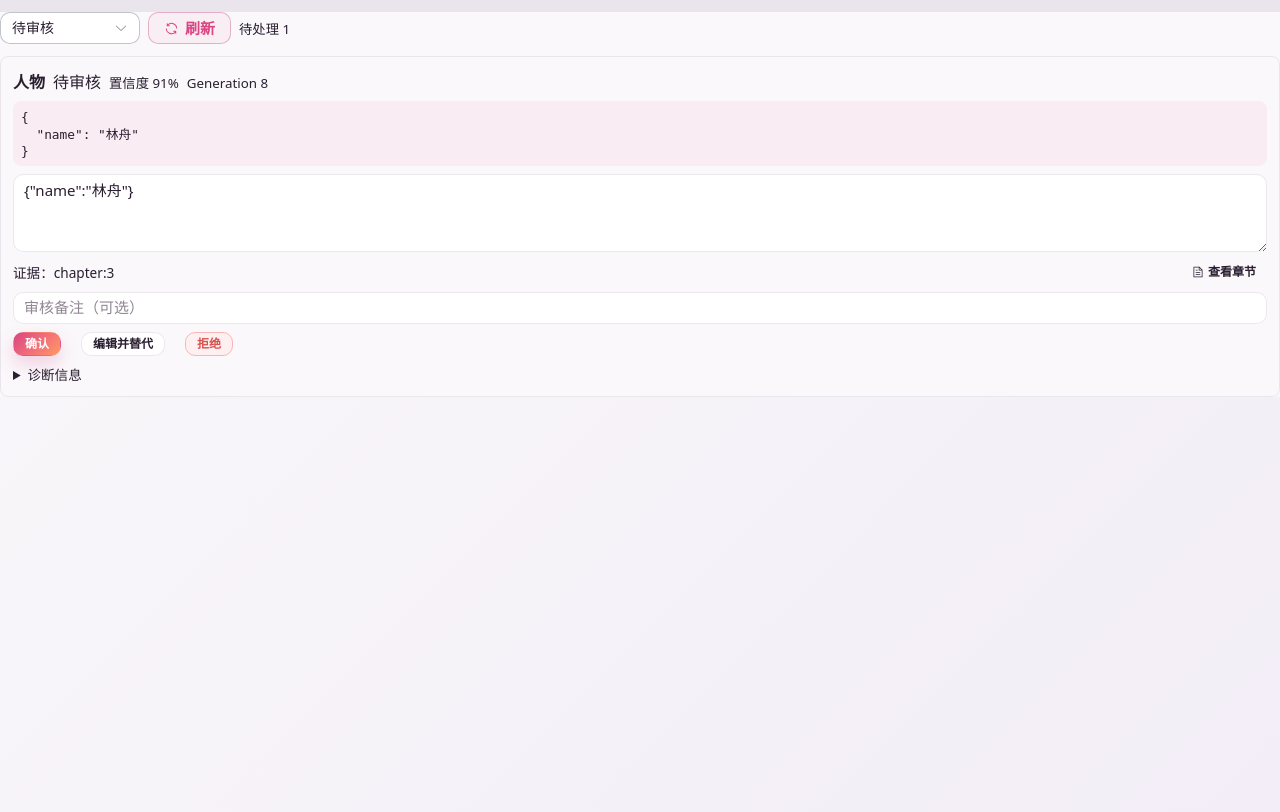
Scenario: ProjectExtractionReview › requires confirmation before accepting a candidate
The width and height of the screenshot is (1280, 812).
Expected: the element with test id "extraction-candidate-21" shows "待审核", [53,71,101,93]
Expected: the text with test id "extraction-payload" shows "林舟", [21,109,139,158]
Step 1. Click the button with test id "extraction-confirm" → (37, 344), box [13,332,61,356]
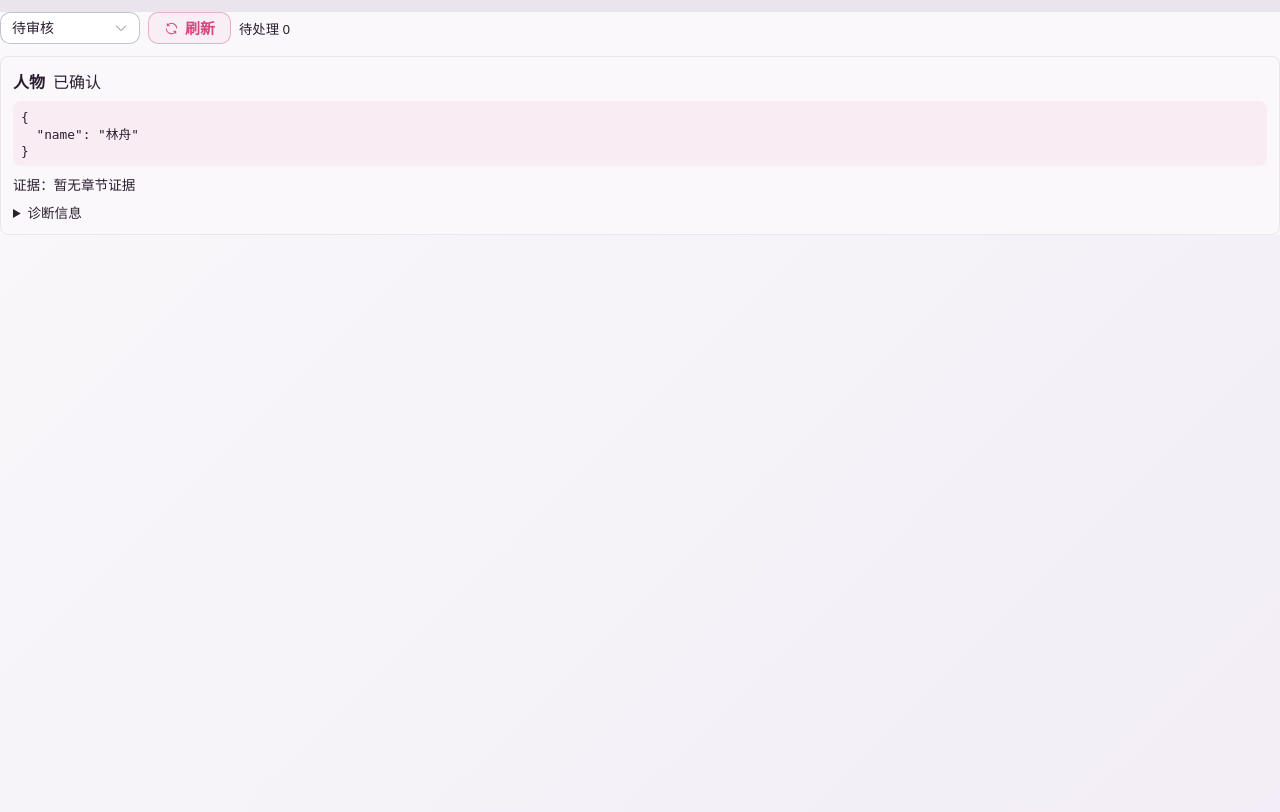
Result: the element with test id "extraction-candidate-21" shows "已确认" at [53,71,101,93]
